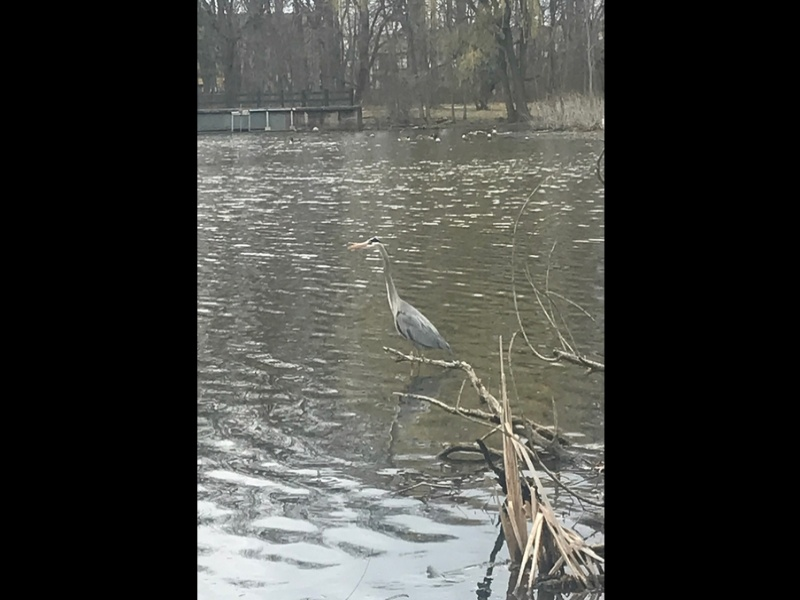heron: (353, 235, 450, 360)
